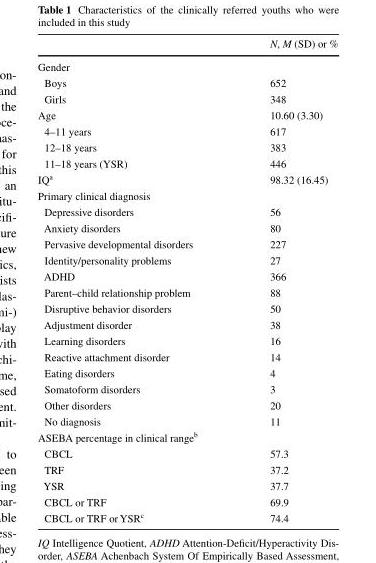table: (37, 36, 337, 523)
table column: (37, 36, 230, 523), (230, 36, 337, 523)
table column header: (37, 36, 337, 54)
table projected row header: (37, 54, 337, 74), (37, 428, 337, 445), (37, 187, 337, 203)
table row: (37, 54, 337, 74), (37, 36, 337, 54), (37, 170, 337, 187), (37, 283, 337, 300), (37, 428, 337, 445), (37, 74, 337, 90), (37, 90, 337, 106), (37, 106, 337, 122), (37, 122, 337, 138), (37, 138, 337, 154), (37, 154, 337, 170), (37, 187, 337, 203), (37, 203, 337, 219), (37, 219, 337, 235), (37, 235, 337, 251), (37, 251, 337, 267), (37, 267, 337, 283), (37, 300, 337, 316), (37, 316, 337, 332), (37, 332, 337, 348), (37, 348, 337, 364), (37, 364, 337, 380), (37, 380, 337, 396), (37, 396, 337, 412), (37, 412, 337, 428), (37, 445, 337, 461), (37, 461, 337, 477), (37, 477, 337, 493), (37, 493, 337, 508), (37, 508, 337, 523)
